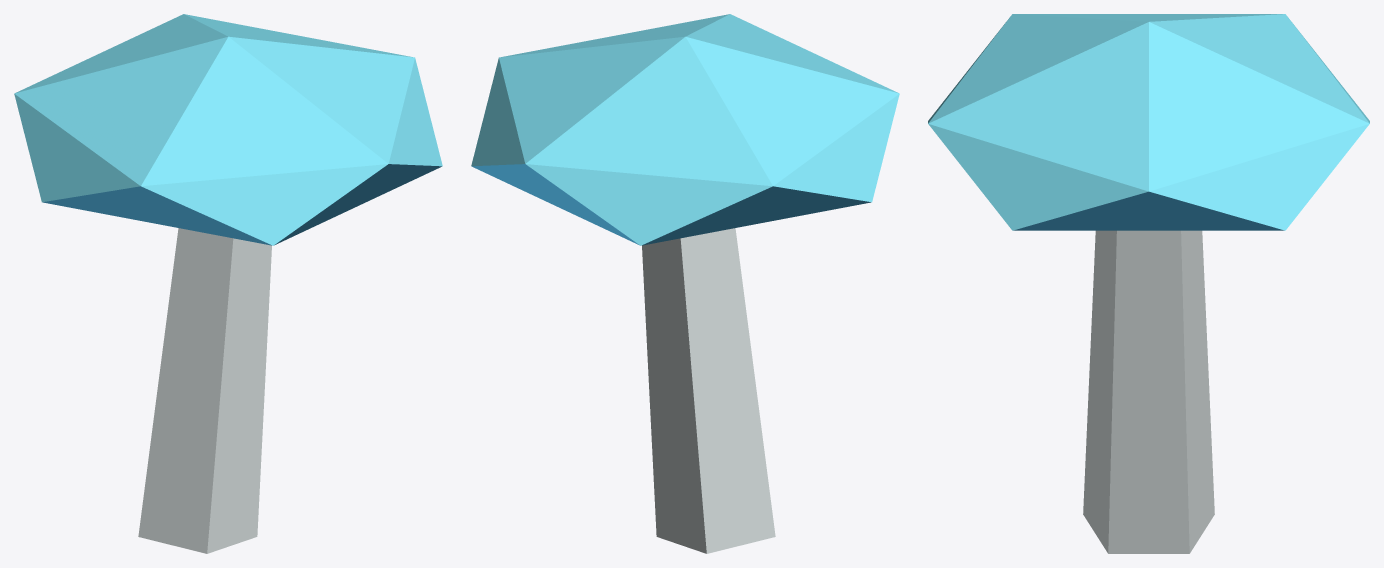
Rendered from Mushroom_Glow_A.obj.
3 renders of one model, left to right at view 1: azimuth 30°, elevation 25°; view 2: azimuth 150°, elevation 25°; view 3: azimuth 270°, elevation 25°, orthographic. The views are drawn at different scales.
Parts seen in each view (by area): view 1: Mushroom_Glow_A; view 2: Mushroom_Glow_A; view 3: Mushroom_Glow_A.
Boxes of the visible parts, x1,y1,x2,y2 form: Mushroom_Glow_A: (14,14,442,553); Mushroom_Glow_A: (471,14,899,553); Mushroom_Glow_A: (928,14,1369,553).
Bounding box in the file's own units: 0.5367 × 0.6714 × 0.5104.
Materials: 1 (1 with a texture image).
